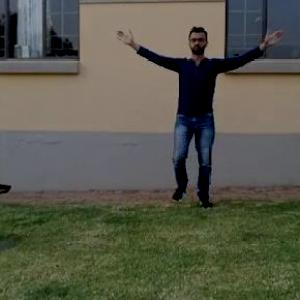takeoff: (114, 21, 280, 209)
